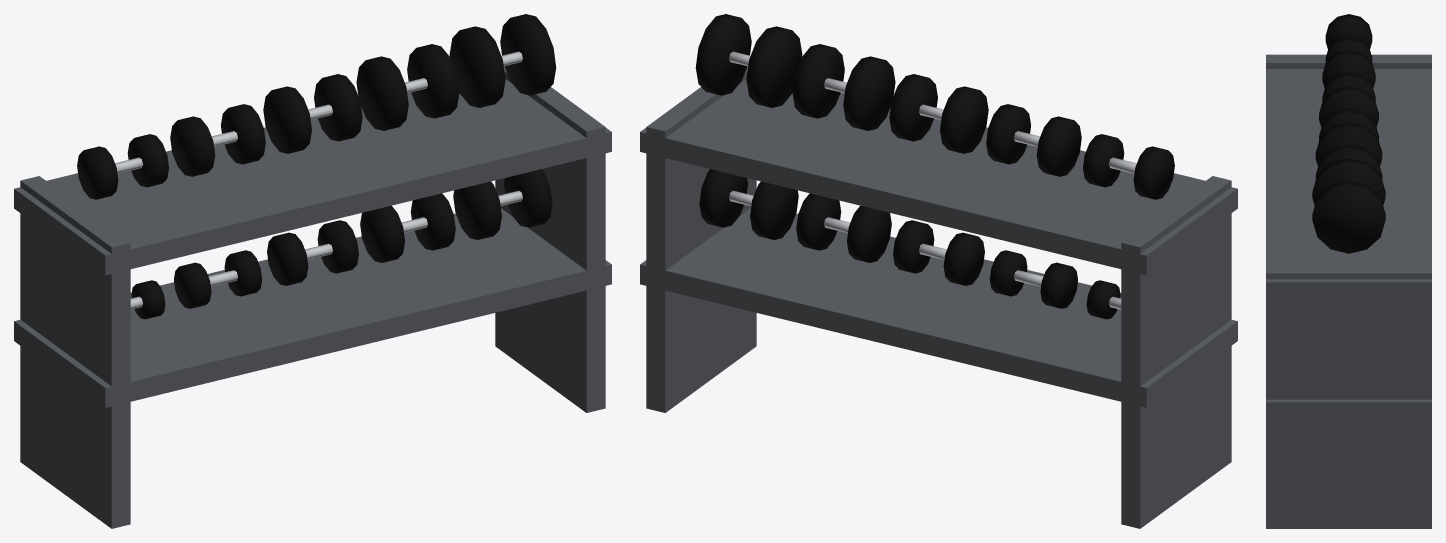
Rendered from dumbbell_rack.glb.
The picture shows the model from 3 angles, left to right: view 1: azimuth 30°, elevation 25°; view 2: azimuth 150°, elevation 25°; view 3: azimuth 270°, elevation 25°; orthographic projection. The views are drawn at different scales.
Parts seen in each view (by area): view 1: dumbbell_rack; view 2: dumbbell_rack; view 3: dumbbell_rack.
Part boxes in pixels (x1,y1,x2,y2): dumbbell_rack: [14, 14, 611, 528]; dumbbell_rack: [640, 14, 1237, 528]; dumbbell_rack: [1266, 14, 1431, 528].
Size of the model in its own units: 1.6 by 1.1 by 0.5.
Materials: 1 (1 with a texture image).
